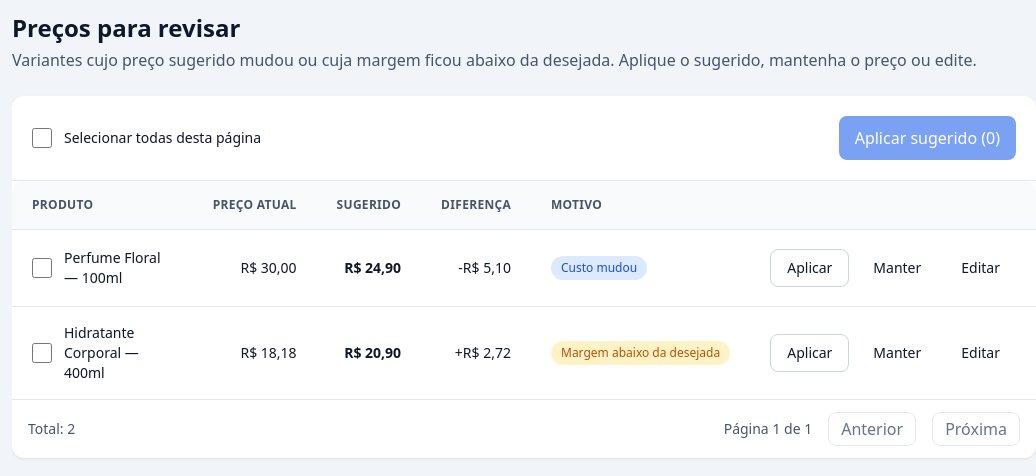
Test: PriceReviewListPage › "Aplicar sugerido (n)" começa desabilitado e aplica as selecionadas (com ignoradas)
This screenshot has width=1036, height=476.
Expected: the button "Aplicar sugerido (0)" is disabled, [839,116,1016,160]
Click the checkbox labelled "Perfume Floral — 100ml".
click(42, 268)  # box [32,258,52,278]
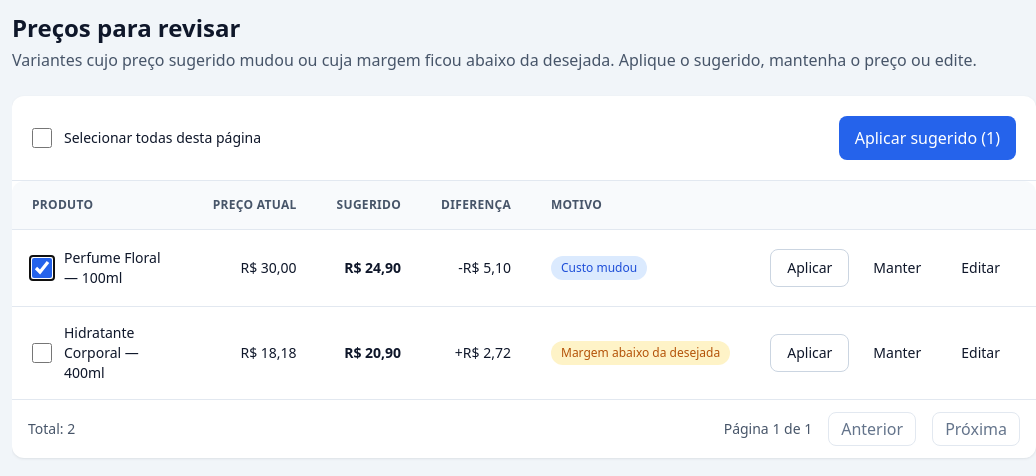
Click the checkbox labelled "Hidratante Corporal — 400ml".
click(42, 353)  # box [32,343,52,363]
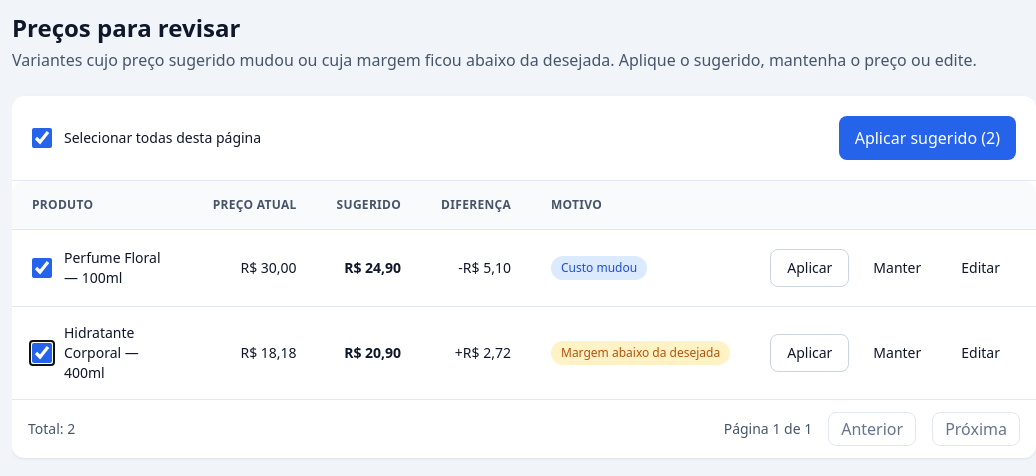
Click the button "Aplicar sugerido (2)".
click(927, 138)  # box [839,116,1016,160]
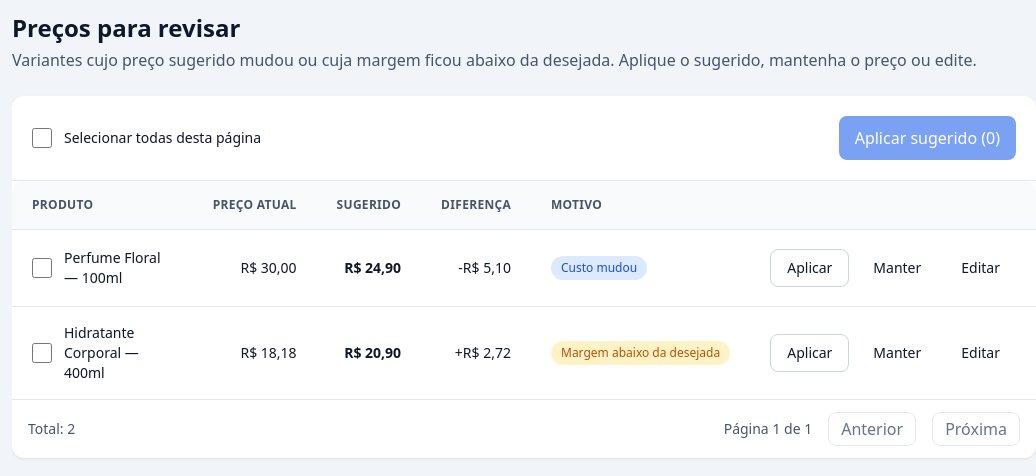
Now the button "Aplicar sugerido (0)" is disabled, box [839,116,1016,160]
